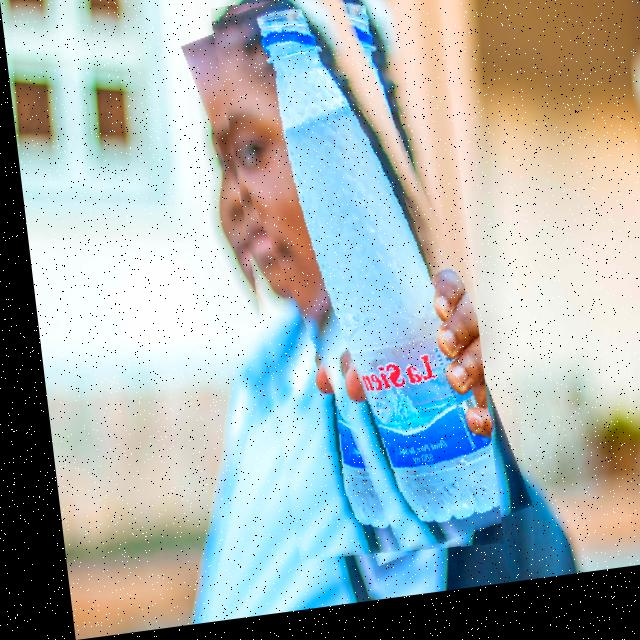plasticbottle: (208, 0, 489, 580)
